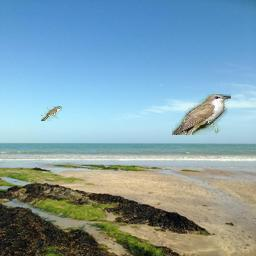Cuckoo: (173, 95, 232, 136), (42, 107, 63, 122)
